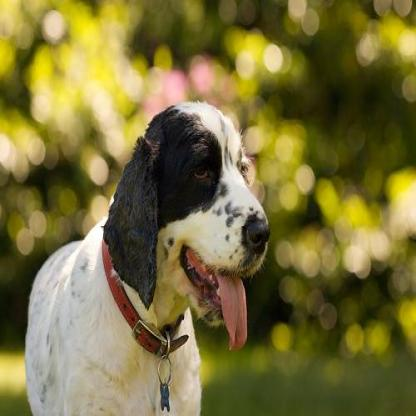cocker_spaniel: (24, 96, 271, 412)
